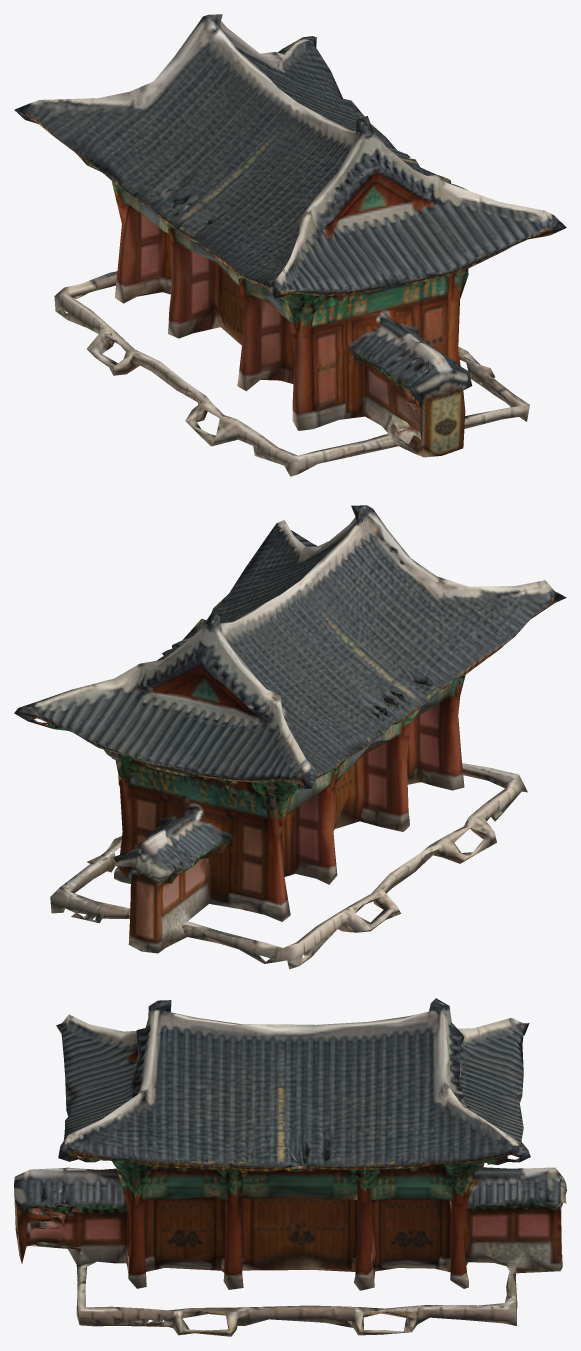
The model's file is 경복궁_근정문.glb.
3 renders of one model, top to bottom at view 1: azimuth 30°, elevation 25°; view 2: azimuth 150°, elevation 25°; view 3: azimuth 270°, elevation 25°, orthographic. The views are drawn at different scales.
Visible parts, largest first — view 1: texture_mapping; view 2: texture_mapping; view 3: texture_mapping.
Boxes of the visible parts, x1=… form: texture_mapping: x1=14, y1=14, x2=566, y2=476; texture_mapping: x1=14, y1=505, x2=566, y2=969; texture_mapping: x1=14, y1=998, x2=566, y2=1336.
Size of the model in its own units: 0.5665 by 0.5414 by 0.9876.
Materials: 1 (1 with a texture image).
